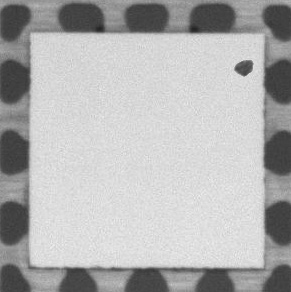DIE_INK: (232, 58, 255, 79)
